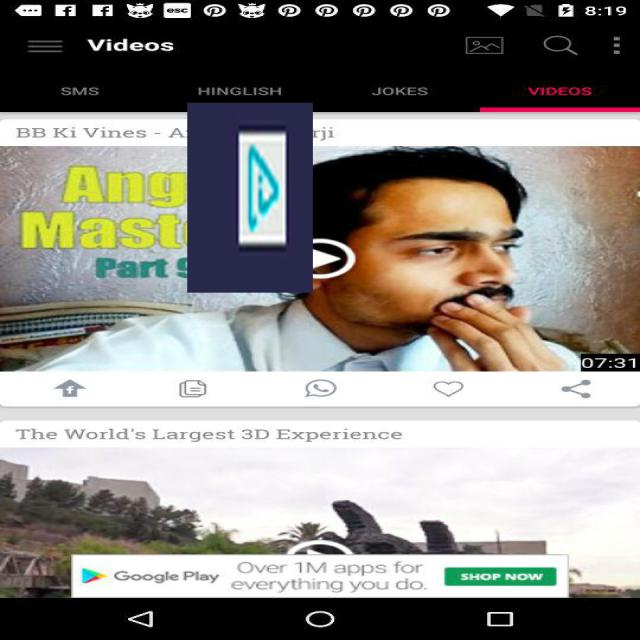sneaking: (187, 102, 313, 292)
